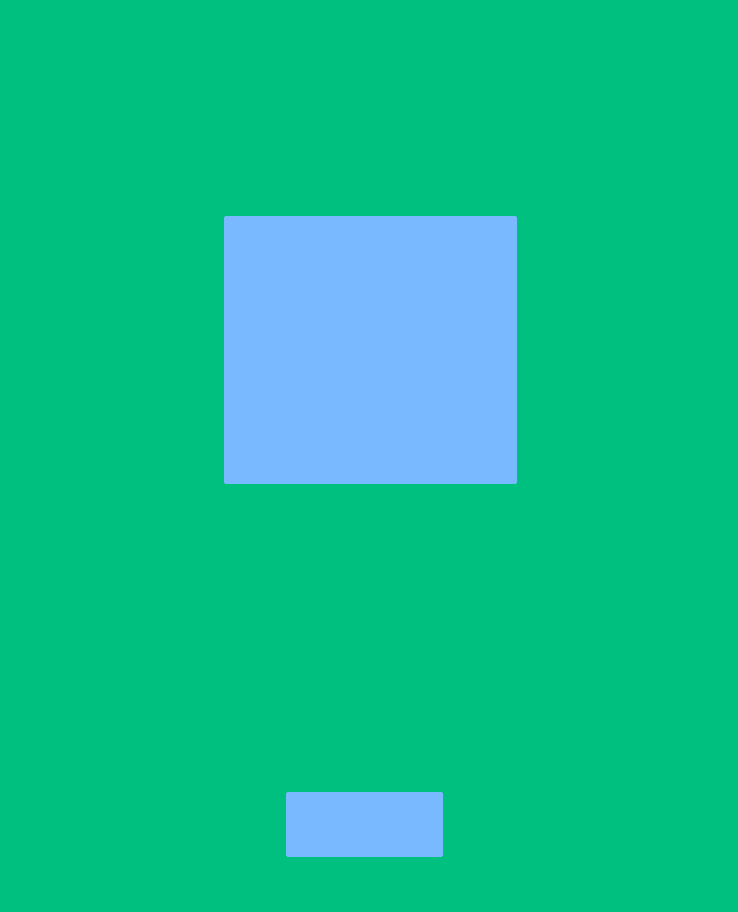Text_area: (225, 217, 515, 482), (287, 793, 441, 855)
